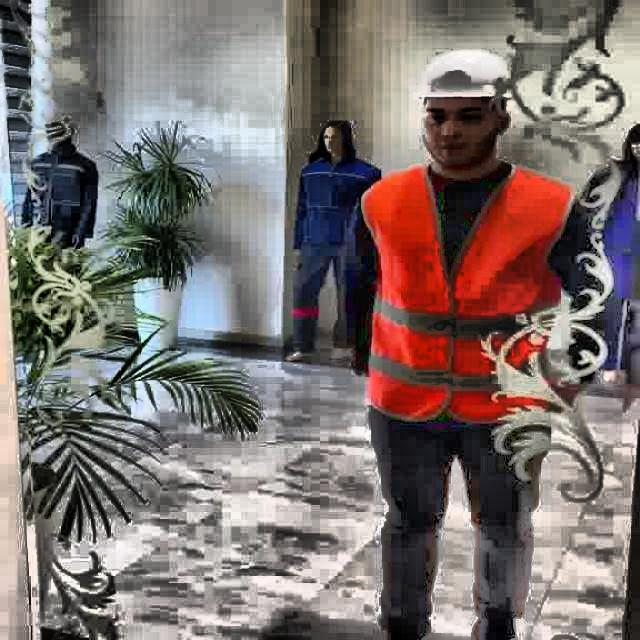safety_helmet: (415, 50, 519, 99)
safety_jacket: (360, 163, 578, 424)
